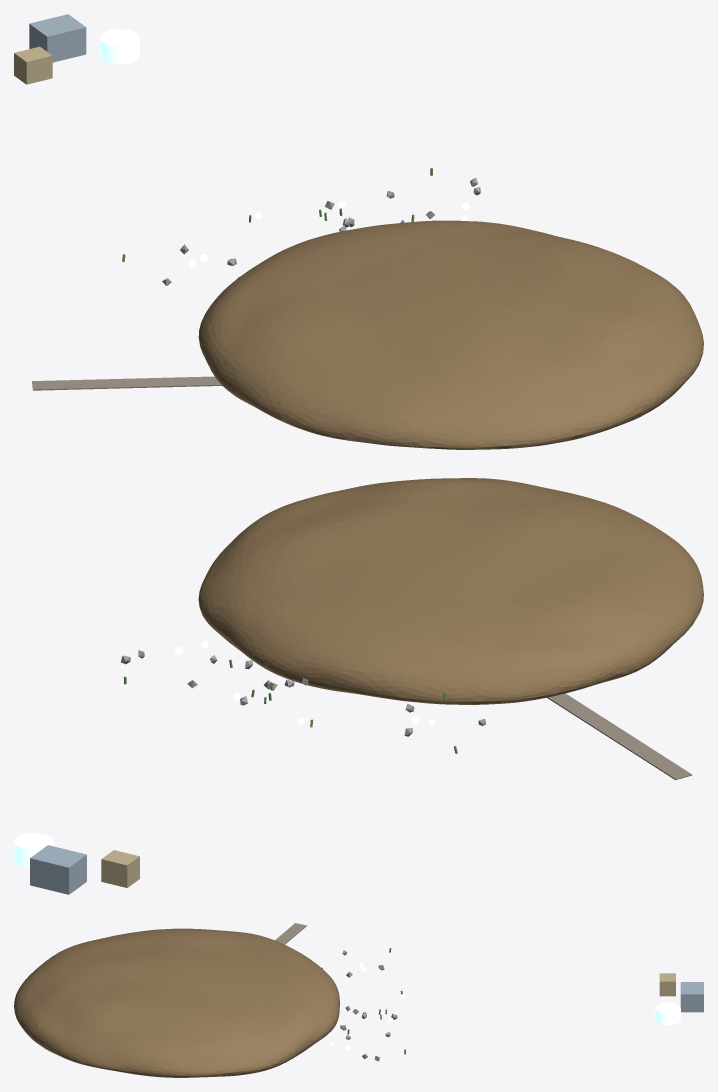
The model's file is Island_EarthDesert.fbx.
3 views of the same model, one above another, from view 1: azimuth 30°, elevation 25°; view 2: azimuth 150°, elevation 25°; view 3: azimuth 270°, elevation 25° (orthographic). The views are drawn at different scales.
Visible parts, largest first — view 1: TERRAIN_EarthDesert, LAB_BUILDING, BRIDGE_EarthDesert_to_ShadowRuins, HEALER_CENTER, SHOP_BUILDING; view 2: TERRAIN_EarthDesert, LAB_BUILDING, BRIDGE_EarthDesert_to_ShadowRuins, SHOP_BUILDING, HEALER_CENTER; view 3: TERRAIN_EarthDesert, LAB_BUILDING, HEALER_CENTER, SHOP_BUILDING, BRIDGE_EarthDesert_to_ShadowRuins.
Boxes of the visible parts, x1=… form: TERRAIN_EarthDesert: x1=198, y1=220, x2=703, y2=449; LAB_BUILDING: x1=29, y1=14, x2=86, y2=62; BRIDGE_EarthDesert_to_ShadowRuins: x1=32, y1=376, x2=221, y2=390; HEALER_CENTER: x1=100, y1=29, x2=139, y2=64; SHOP_BUILDING: x1=14, y1=46, x2=52, y2=84; TERRAIN_EarthDesert: x1=198, y1=478, x2=703, y2=704; LAB_BUILDING: x1=30, y1=845, x2=86, y2=894; BRIDGE_EarthDesert_to_ShadowRuins: x1=547, y1=693, x2=692, y2=780; SHOP_BUILDING: x1=101, y1=850, x2=139, y2=887; HEALER_CENTER: x1=14, y1=832, x2=53, y2=867; TERRAIN_EarthDesert: x1=14, y1=928, x2=339, y2=1077; LAB_BUILDING: x1=680, y1=982, x2=703, y2=1012; HEALER_CENTER: x1=654, y1=1002, x2=680, y2=1025; SHOP_BUILDING: x1=659, y1=973, x2=675, y2=996; BRIDGE_EarthDesert_to_ShadowRuins: x1=275, y1=923, x2=306, y2=944.
Bounding box in the file's own units: 253 × 37.41 × 423.
